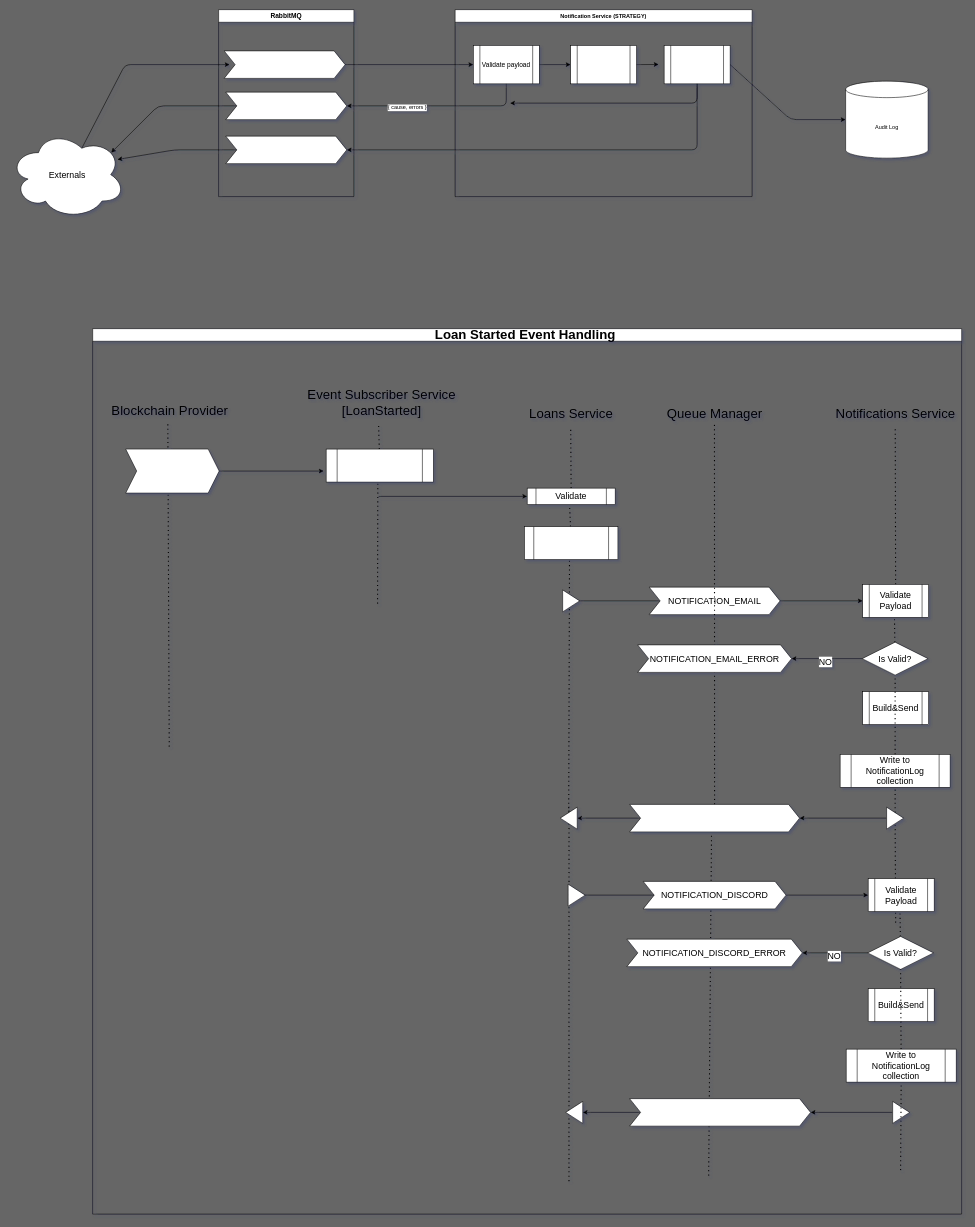
This 975x1227 diagram has some shape labels left out. Here are the shapes that lost their labels. From the top down, the centre of each, then its label:
(x=284, y=64): NOTIFICATION_{STRATEGY}
(x=603, y=64): Build template
(x=697, y=64): Send
(x=286, y=106): NOTIFICATION_{STRATEGY}_ERROR
(x=286, y=150): NOTIFICATION_{STRATEGY}_SUCCESS
(x=172, y=471): LoanStarted
(x=379, y=465): Write to EventLog collection
(x=571, y=543): Write to Loans collection
(x=714, y=818): NOTIFICATION_EMAIL_SUCCESS
(x=720, y=1112): NOTIFICATION_DISCORD_SUCCESS
